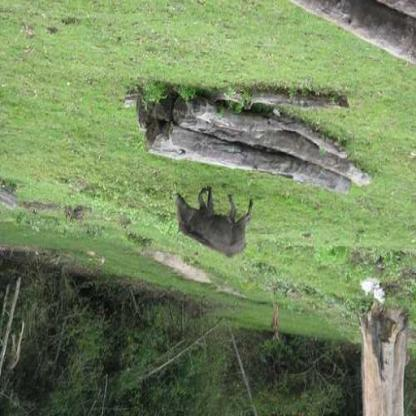boar: (165, 194, 271, 269)
